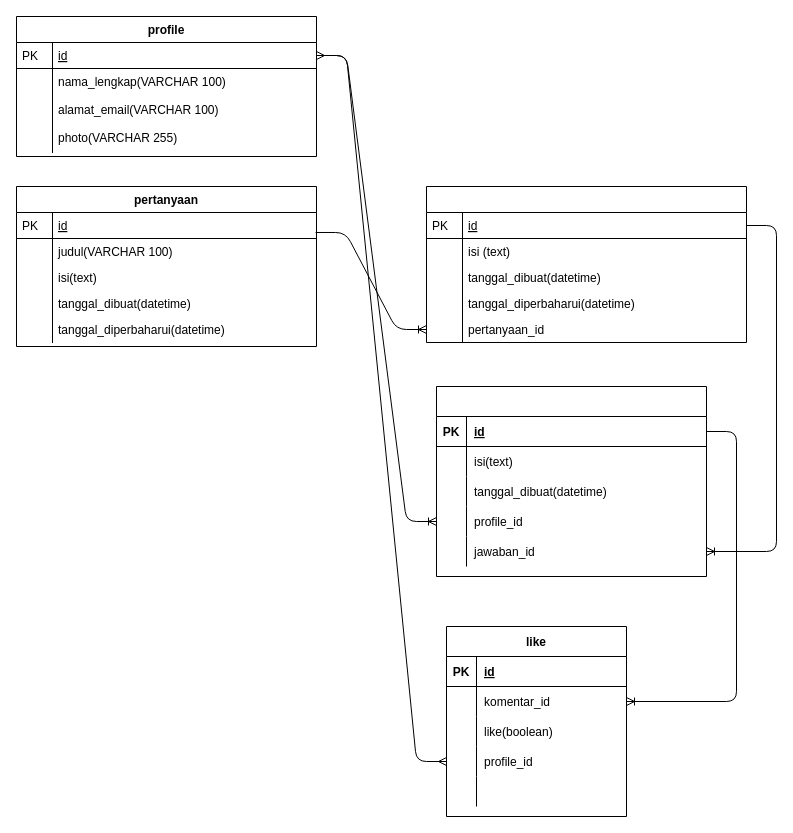
This 793x833 diagram has some shape labels left out. The shapes that lost their labels are listed below. From the top down, each one's box as (x1, y1, x2, y2) in pixels, then its label:
(426, 186, 746, 342): jawaban
(436, 386, 706, 576): komentar
